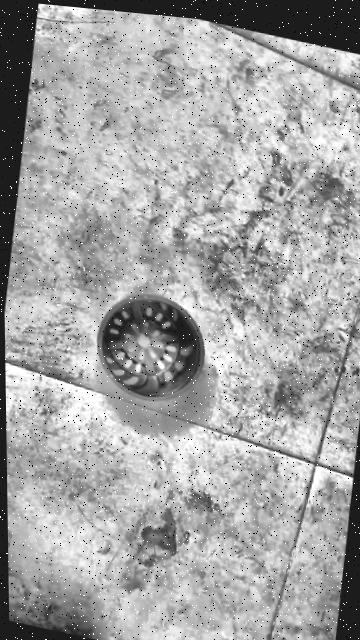pot: (91, 284, 211, 414)
